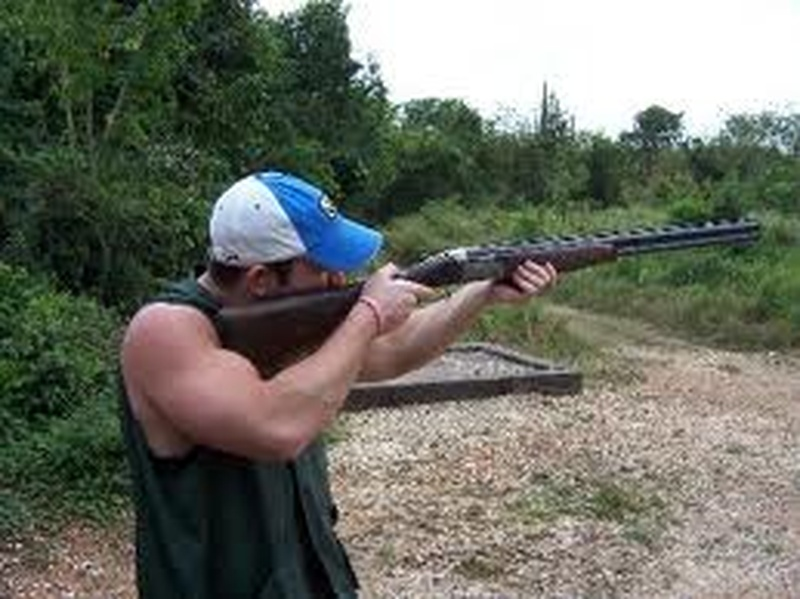Gun: (413, 217, 712, 289)
